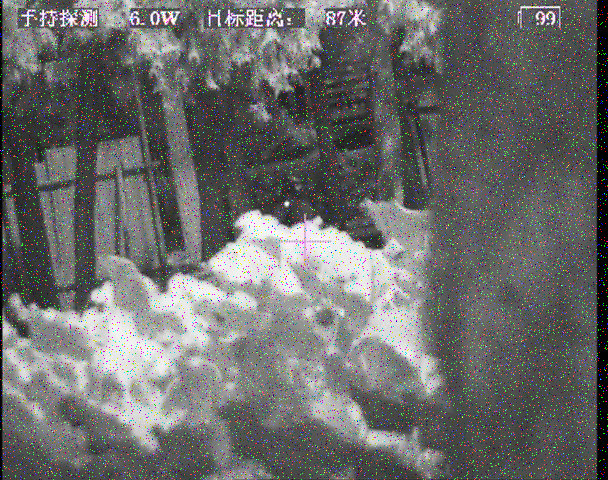my: (283, 199, 291, 209)
